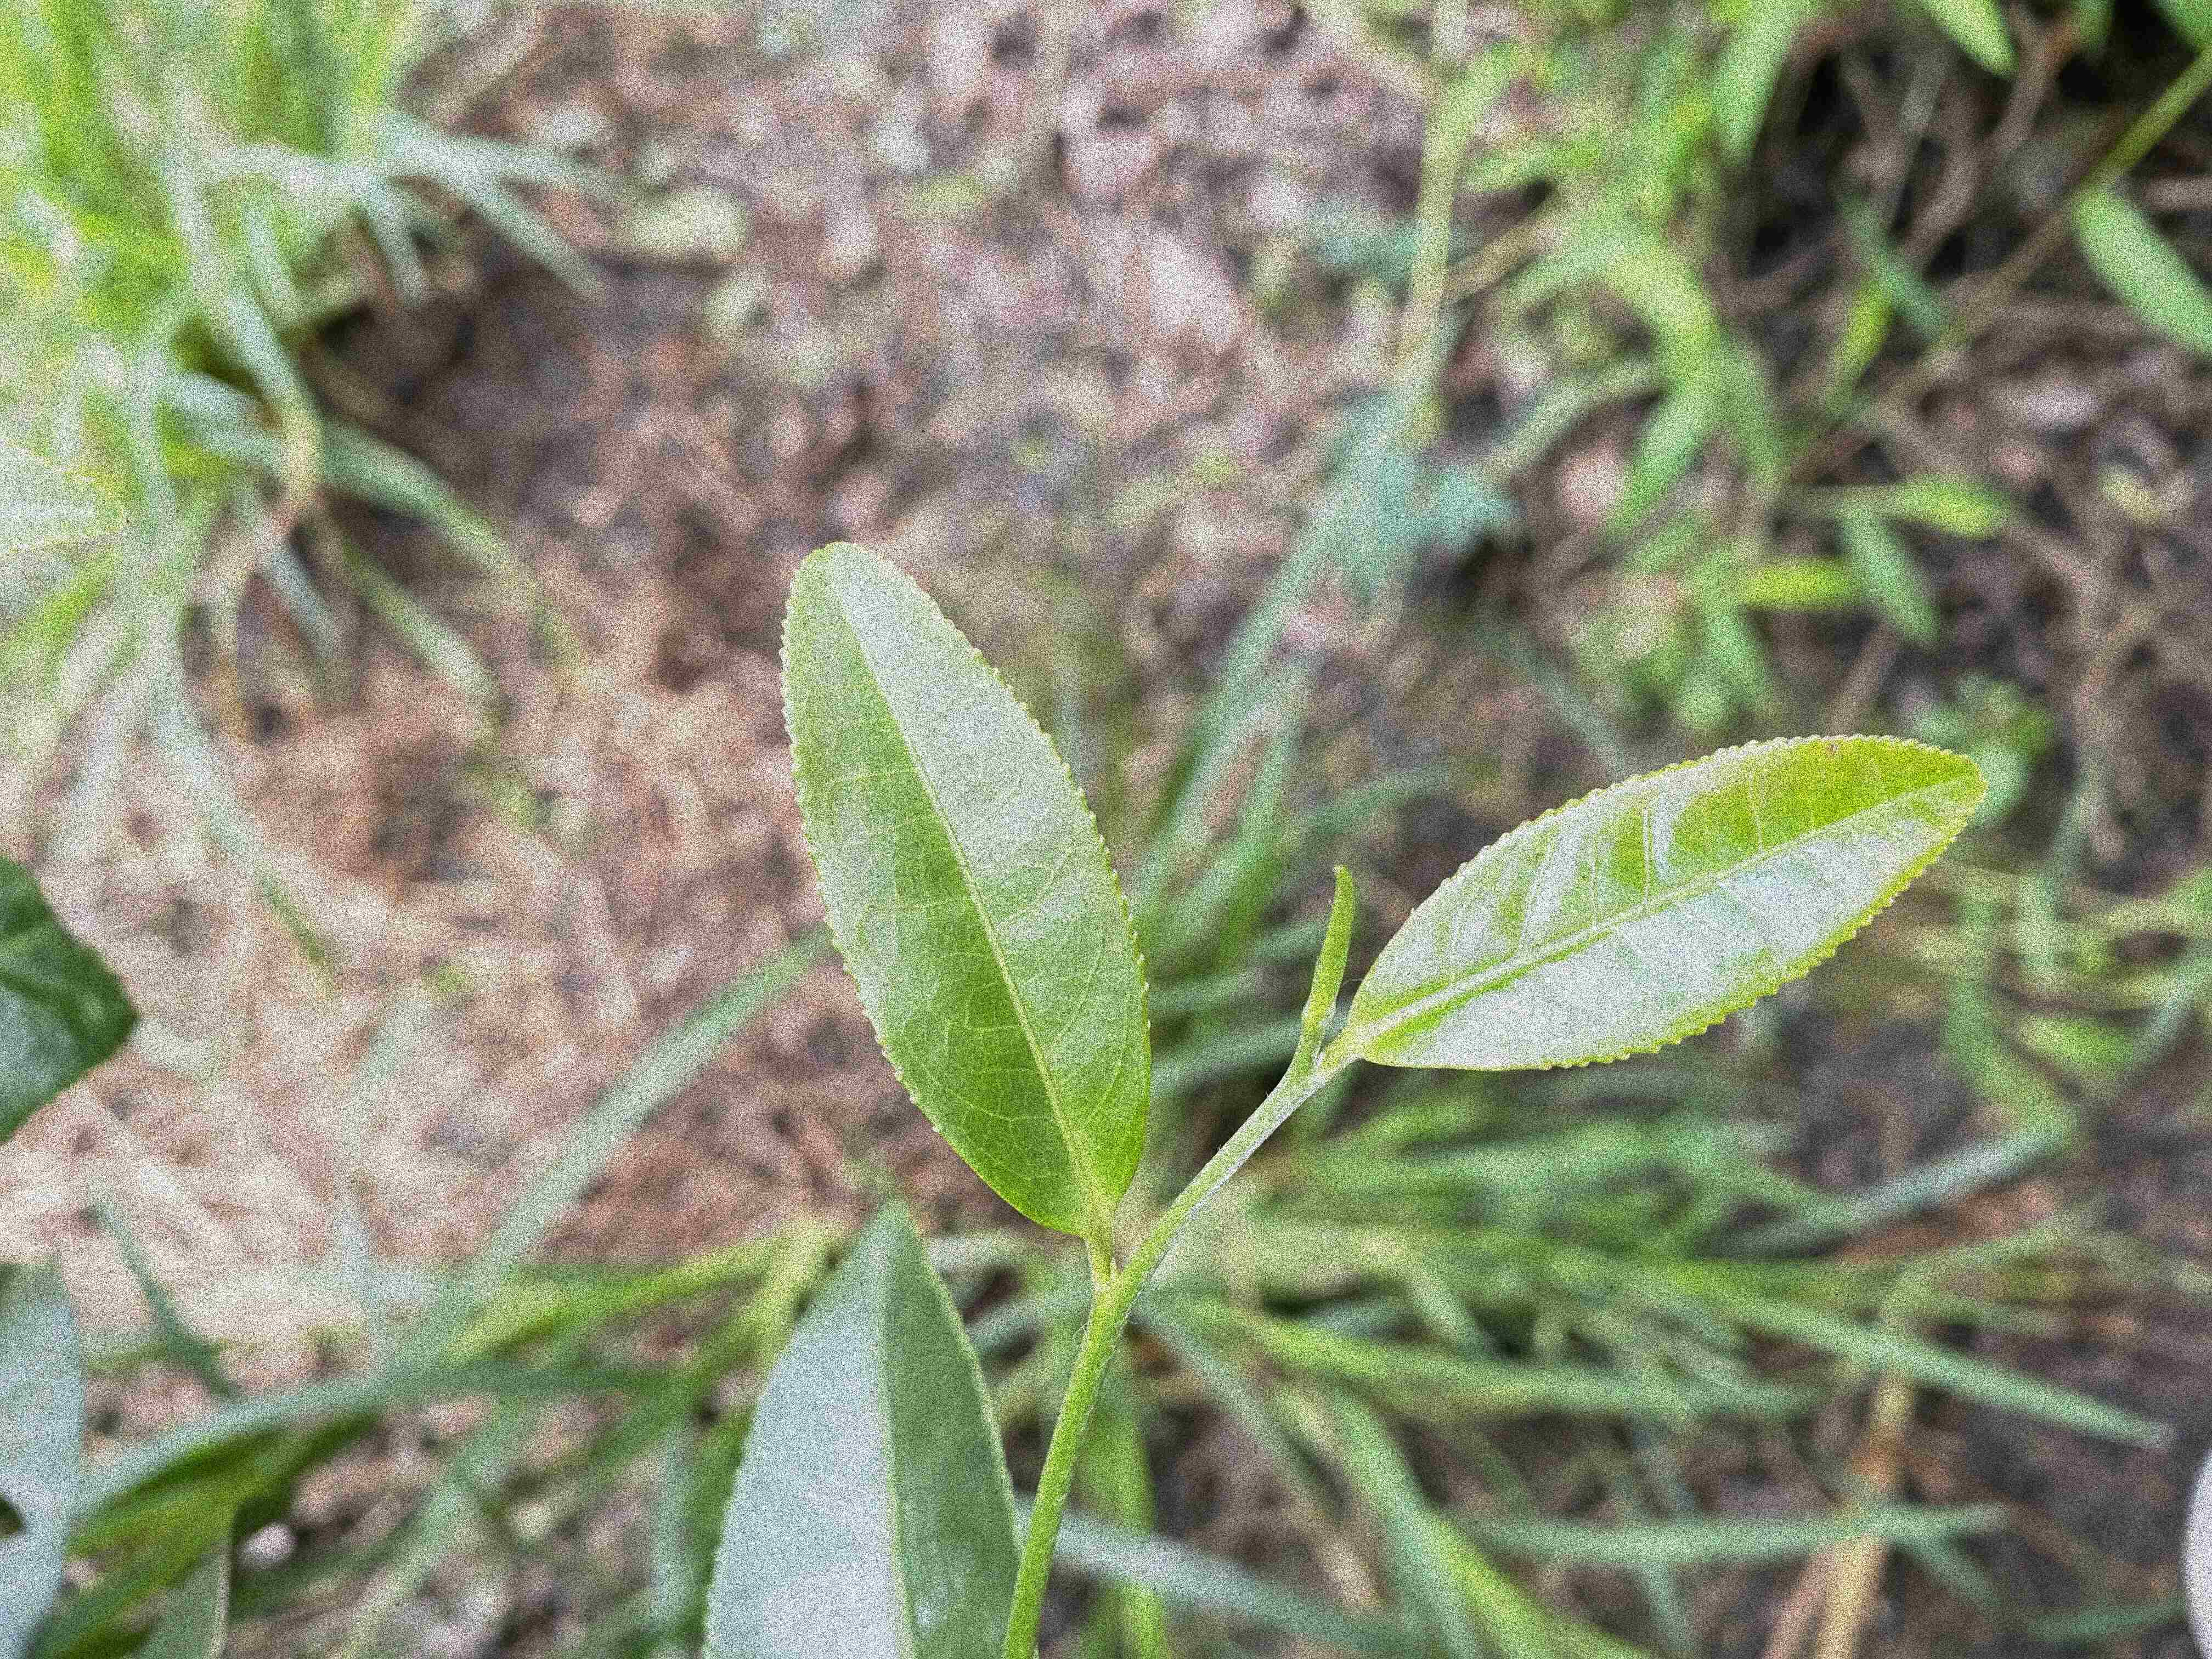healthy: (777, 537, 1158, 1239), (1350, 730, 1987, 1072)
